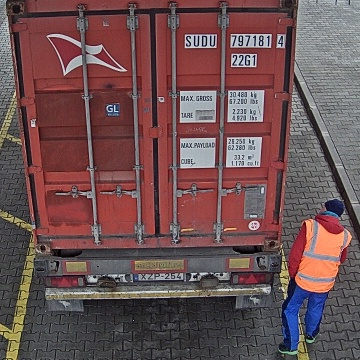serial_id: (185, 35, 284, 47)
